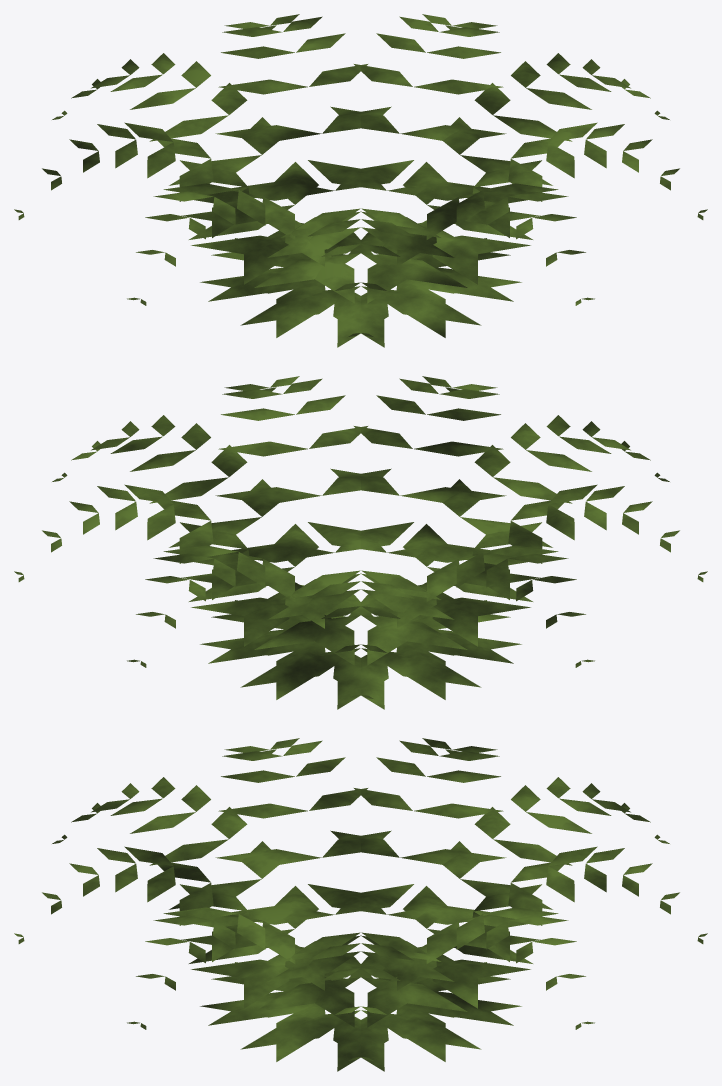
Rendered from fern.glb.
3 renders of one model, top to bottom at view 1: azimuth 30°, elevation 25°; view 2: azimuth 150°, elevation 25°; view 3: azimuth 270°, elevation 25°, orthographic.
Parts seen in each view (by area): view 1: fernMesh; view 2: fernMesh; view 3: fernMesh.
Part boxes in pixels (x1=…): fernMesh: x1=14, y1=14, x2=707, y2=347; fernMesh: x1=14, y1=376, x2=707, y2=709; fernMesh: x1=14, y1=738, x2=707, y2=1071.
Size of the model in its own units: 1.55 by 0.3938 by 1.57.
1 material, 1 textured.
